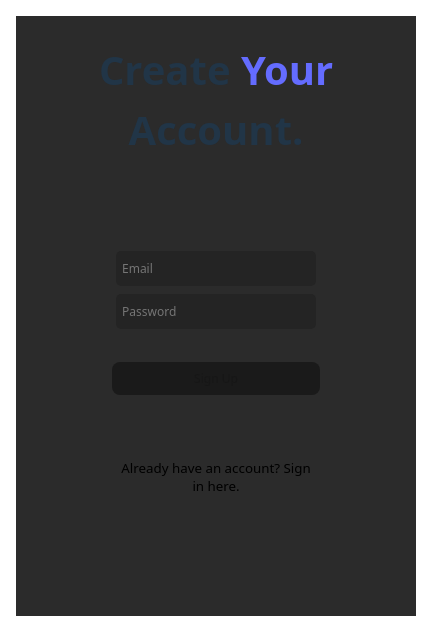
Test: Error message rendering › diplay email error when email is invalid
Type "johndoe@" into the field with test id "email-input" at (216, 268), box [116,251,316,286]
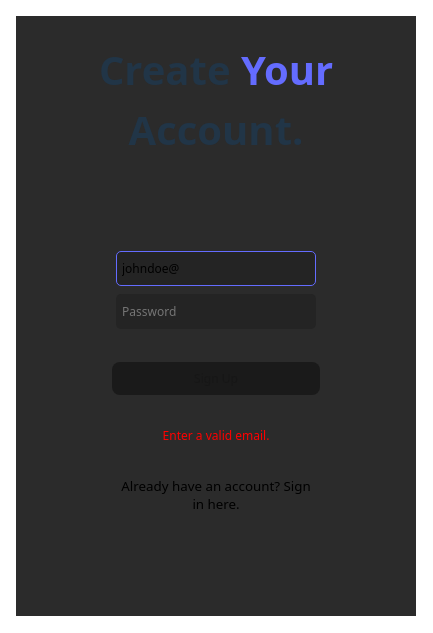
Check: the text with test id "error-message" shows "Enter a valid email", box [163,427,269,444]
